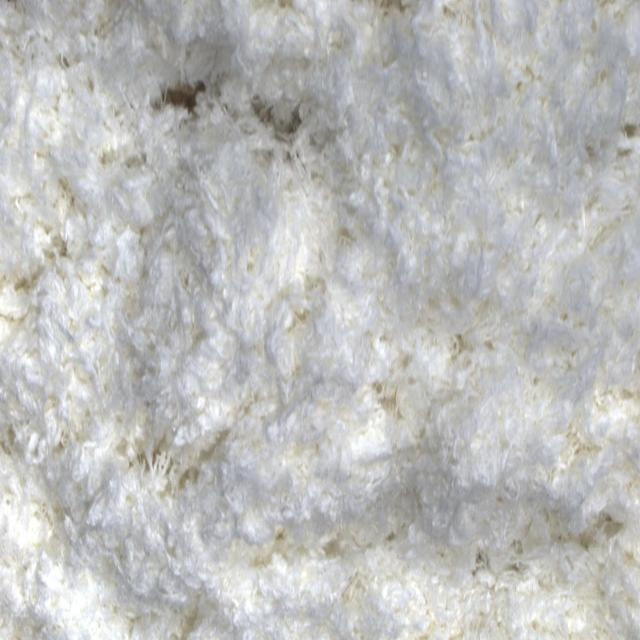dust: (158, 73, 209, 139)
